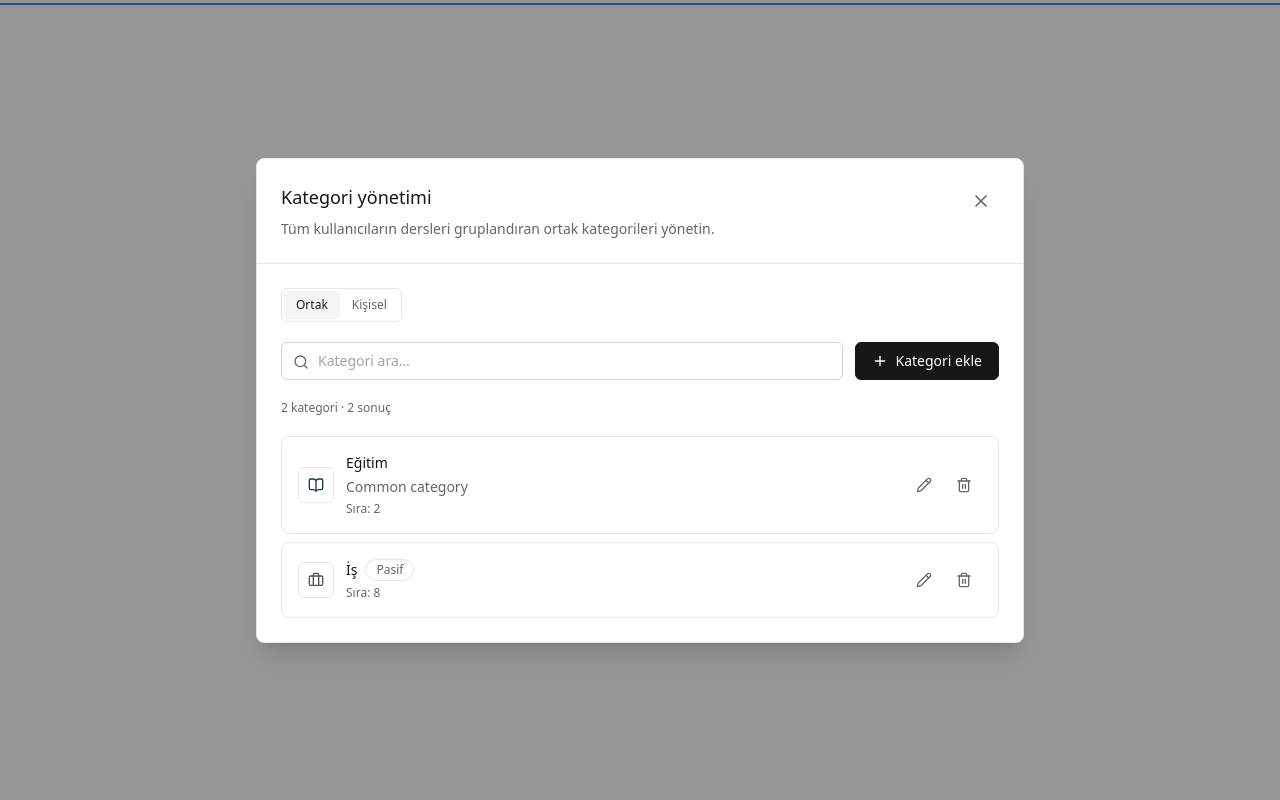
keeps failed edits open without automatic write retry and invalidates all affected views on success
Step 1. Click the button named "Eğitim kategorisini düzenle" → [924, 484], box x1=906 y1=466 x2=942 y2=502
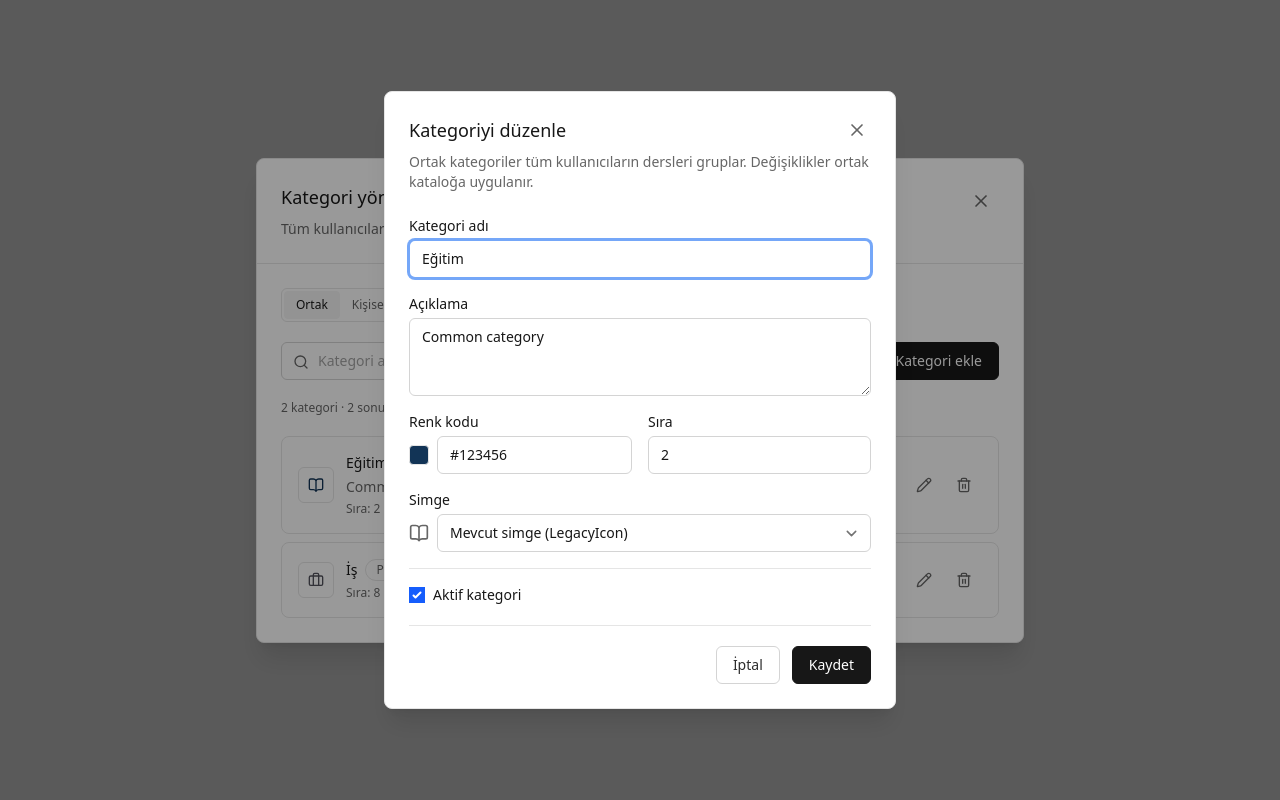
Step 2. Replace the text in the field labelled "Kategori adı" with "New category" → [640, 259], box x1=409 y1=240 x2=871 y2=278
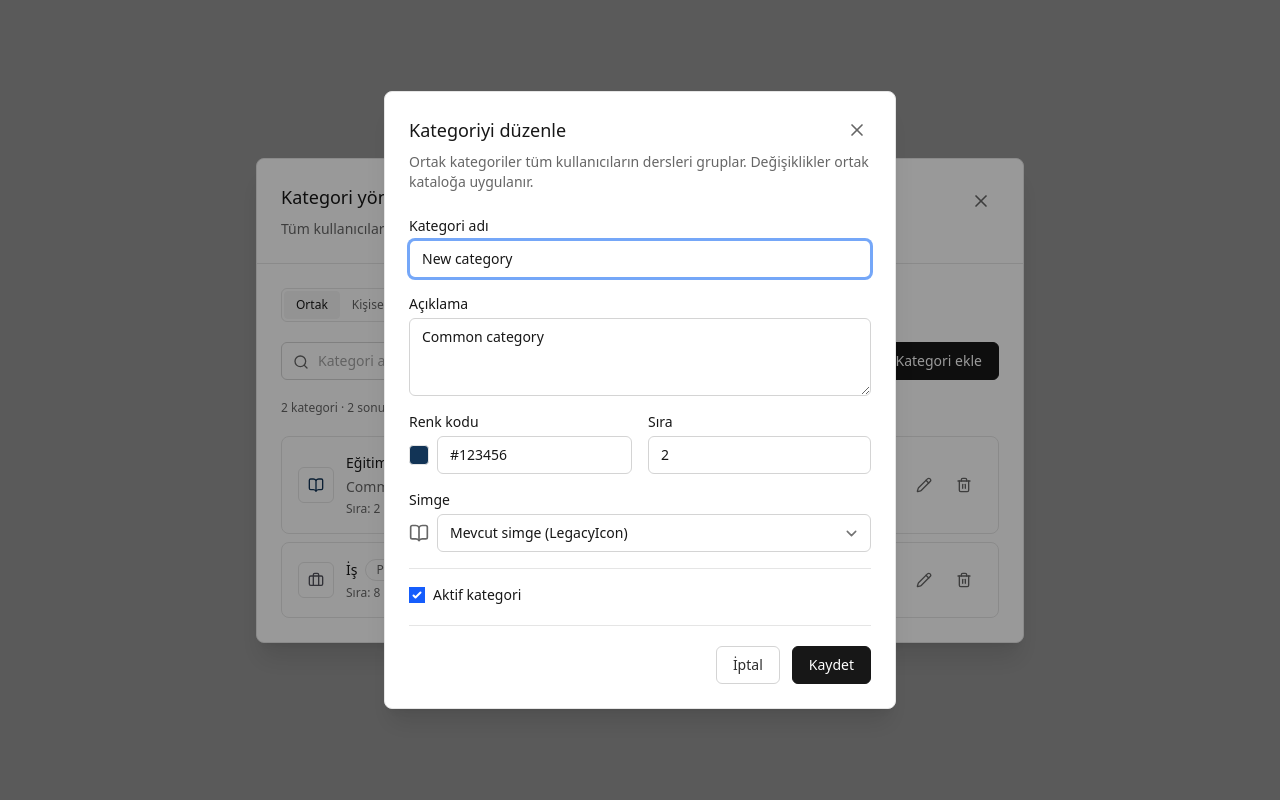
Step 3. Click the button "Kaydet" → [831, 665], box x1=792 y1=646 x2=871 y2=684
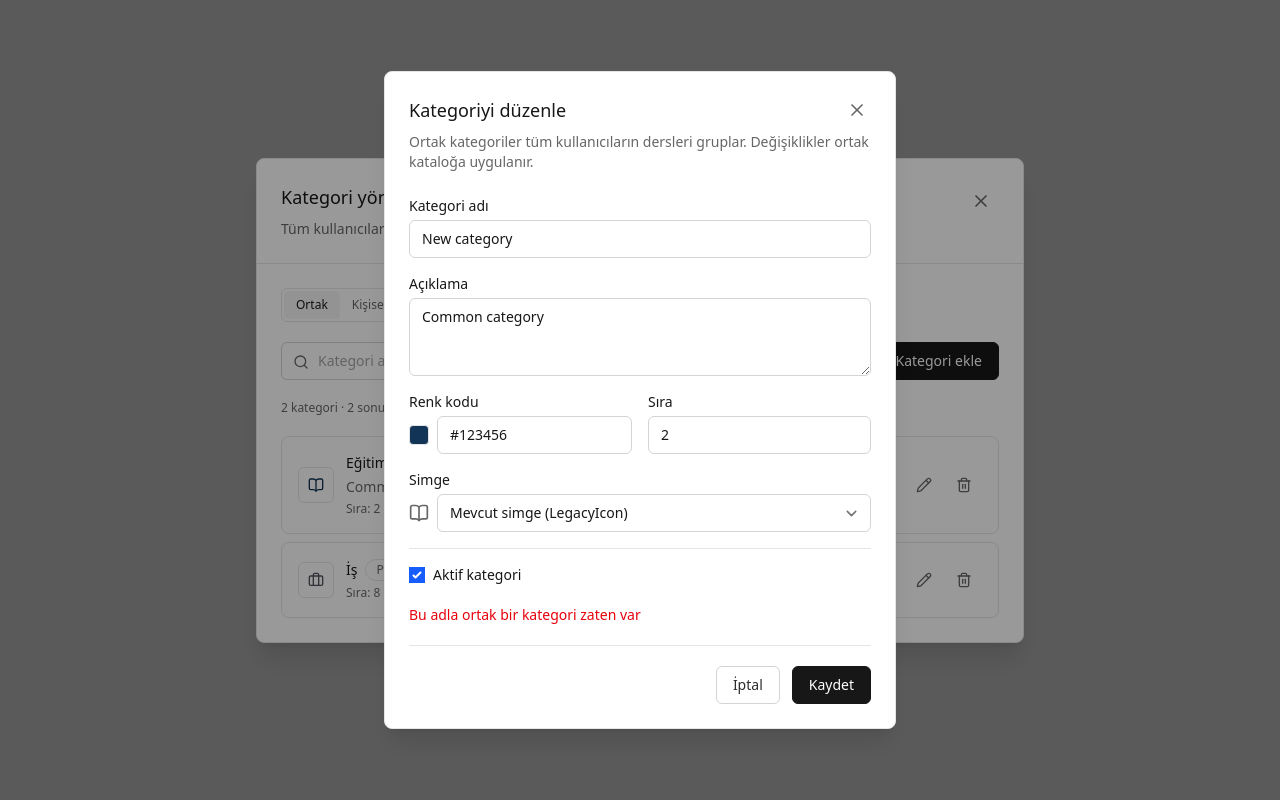
Expected: the text "Bu adla ortak bir kategori zaten var" is shown, x1=409 y1=605 x2=641 y2=624
Step 4. Click the button "Kaydet" → [831, 685], box x1=792 y1=666 x2=871 y2=704
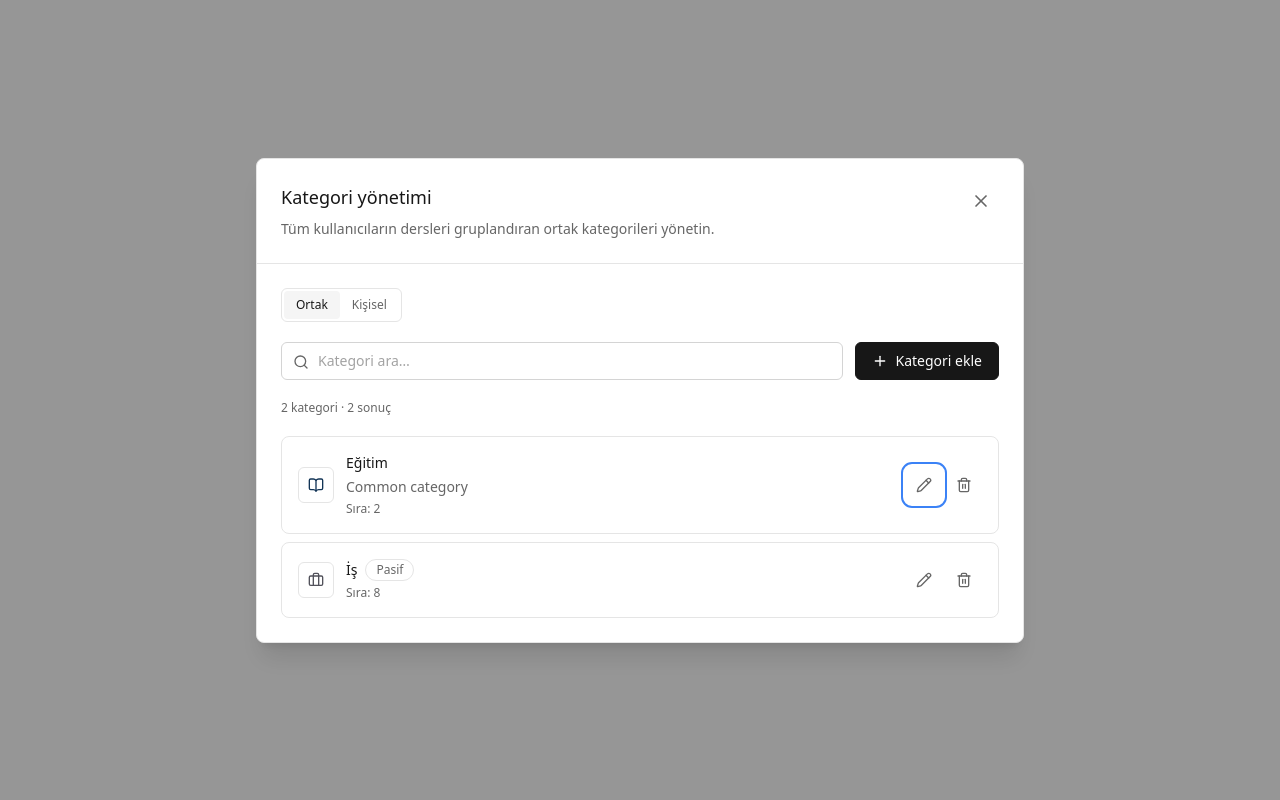
Expected: the heading "Kategoriyi düzenle" is gone
